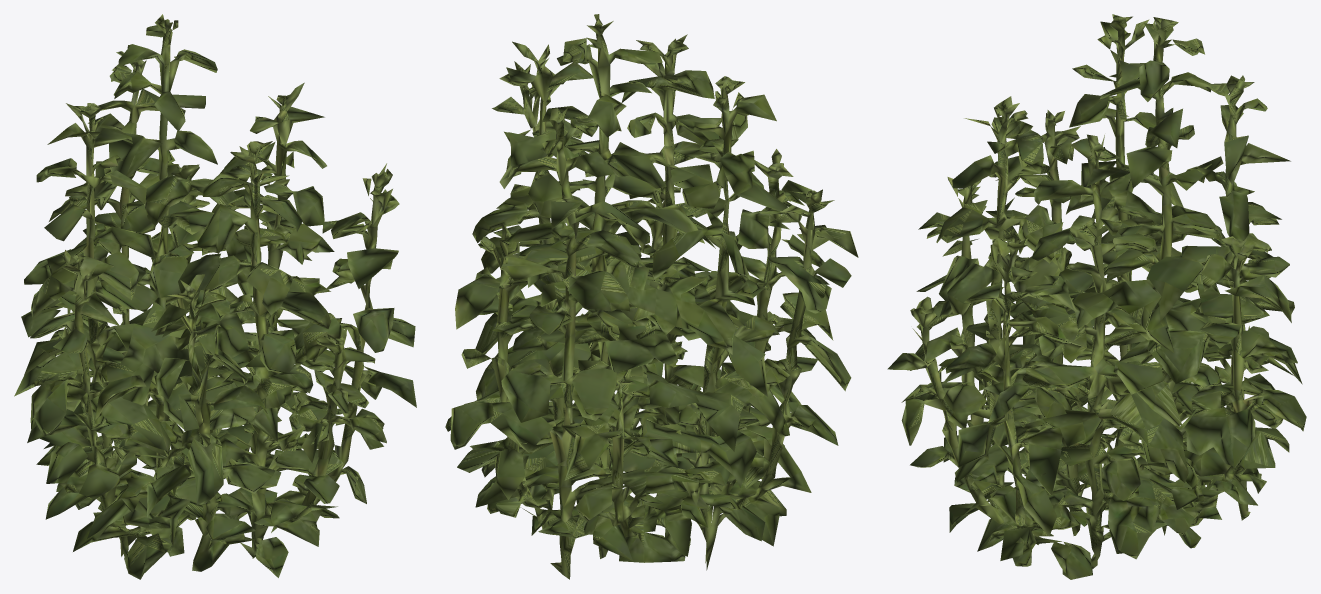
File: ortigas_alto.glb
3 views of the same model, side by side, from view 1: azimuth 30°, elevation 25°; view 2: azimuth 150°, elevation 25°; view 3: azimuth 270°, elevation 25° (orthographic). The views are drawn at different scales.
Visible parts, largest first — view 1: alto; view 2: alto; view 3: alto.
Part boxes in pixels (x1=…): alto: x1=14, y1=14, x2=416, y2=579; alto: x1=445, y1=14, x2=858, y2=579; alto: x1=887, y1=14, x2=1306, y2=579.
Bounding box in the file's own units: 0.5813 × 0.7936 × 0.5625.
Materials: 1 (1 with a texture image).
